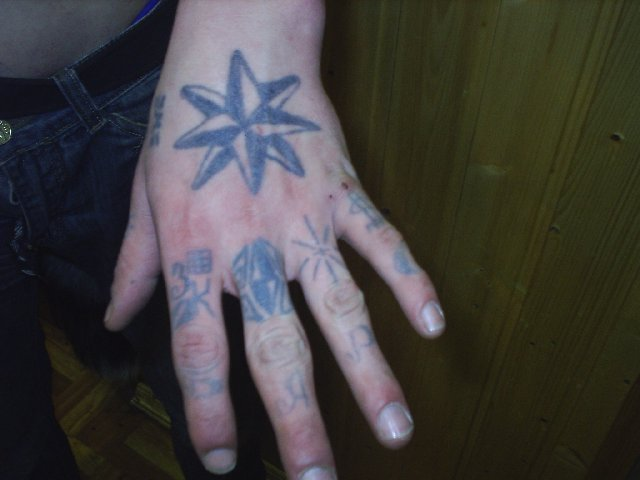tatu3_bukva: (180, 352, 227, 404), (279, 368, 317, 420), (343, 324, 377, 368)
tatu4_zvezda: (173, 50, 325, 200)
